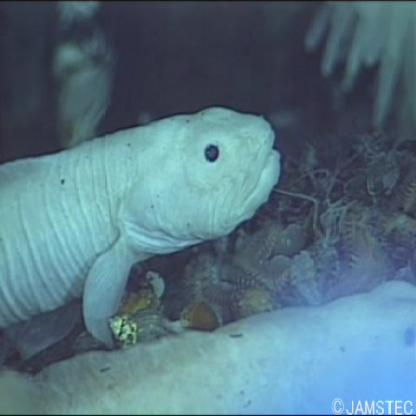Bio: (1, 100, 287, 352)
